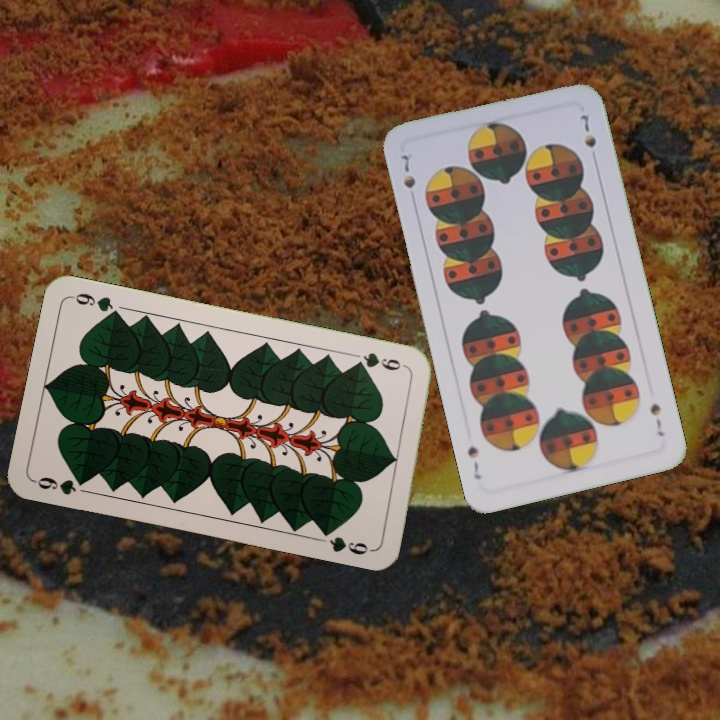G9: (30, 473, 91, 498), (351, 348, 411, 373)
S7: (396, 150, 418, 192), (646, 399, 667, 439)
